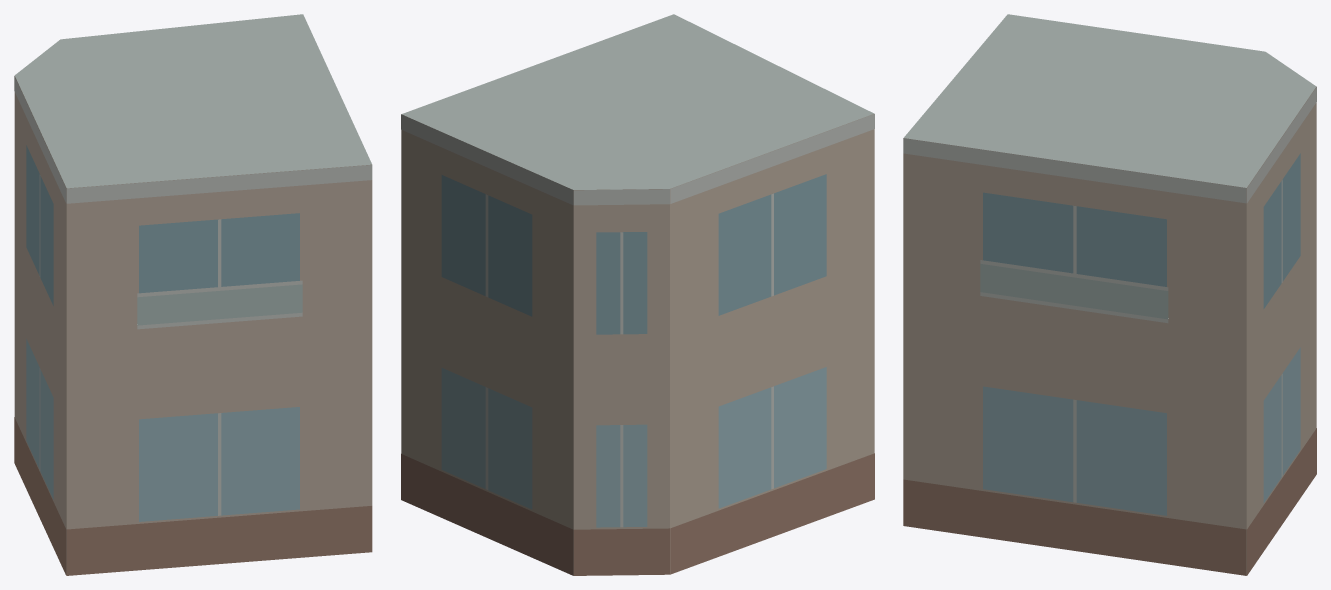
The model's file is survey-upis-32546419.glb.
The picture shows the model from 3 angles, left to right: view 1: azimuth 30°, elevation 25°; view 2: azimuth 150°, elevation 25°; view 3: azimuth 270°, elevation 25°; orthographic projection.
Parts seen in each view (by area): view 1: survey-upis-32546419.tmp; view 2: survey-upis-32546419.tmp; view 3: survey-upis-32546419.tmp.
Part boxes in pixels (x1,y1,x2,y2): survey-upis-32546419.tmp: [14, 14, 372, 575]; survey-upis-32546419.tmp: [401, 14, 874, 575]; survey-upis-32546419.tmp: [903, 14, 1316, 575].
Size of the model in its own units: 5.88 by 6.1 by 5.9.
